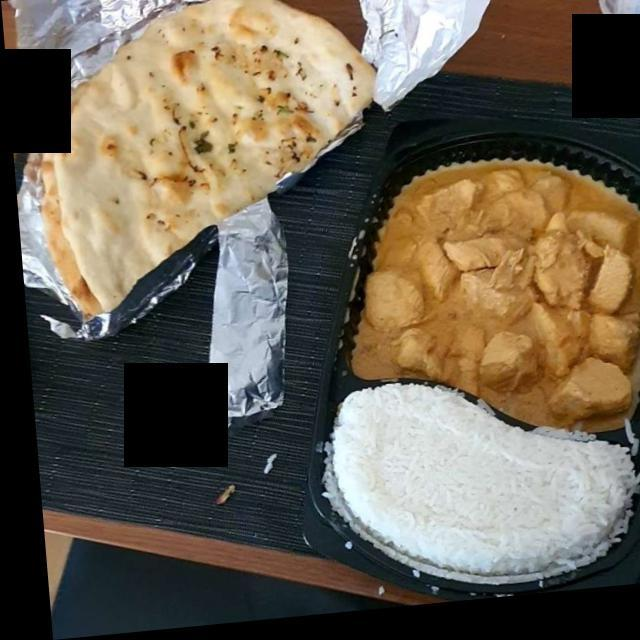rice: (326, 397, 621, 587)
